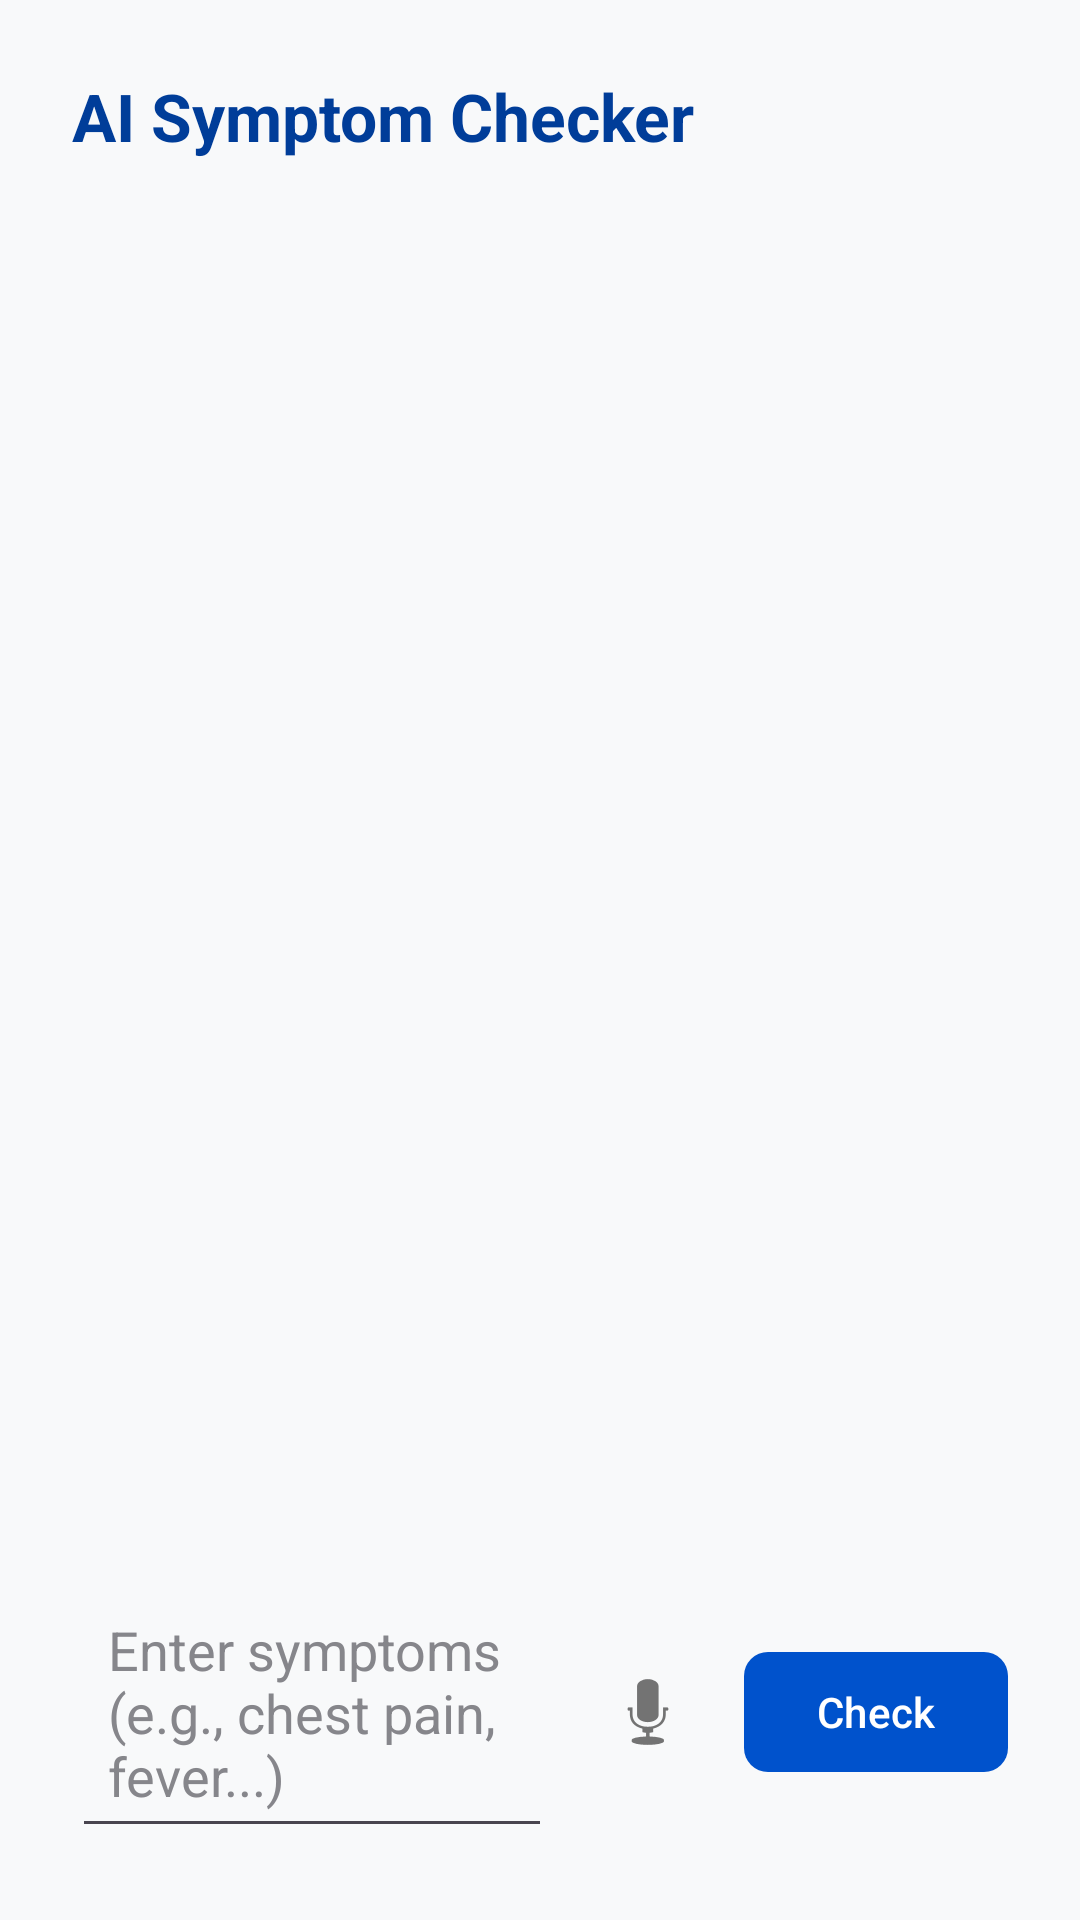

Locate icon controls on the screen. Image size 1080 × 1920, boxes as (x1, y1, x2, y2).
Speak Symptoms: (627, 1679, 669, 1745)
